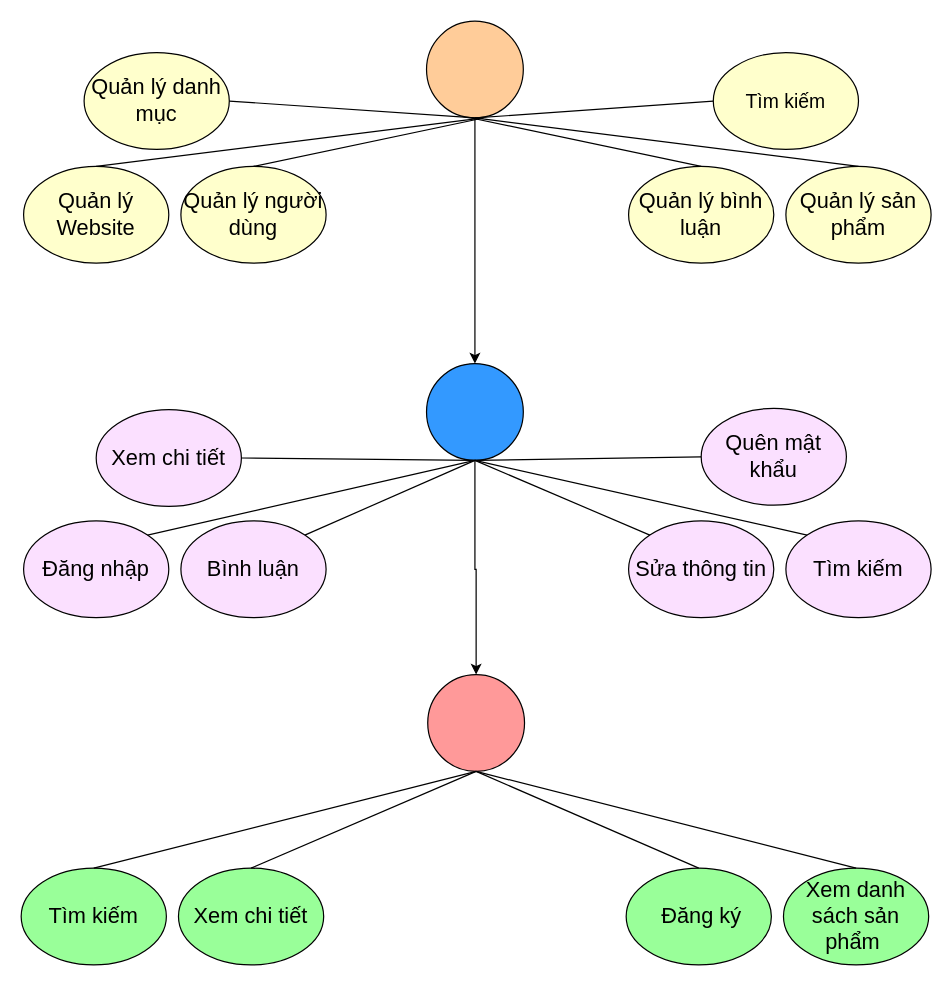
The diagram is 952 pixels wide and 986 high, and some of its shapes have lost their labels. Each missing label, with the box of its shape:
ADMIN: (425, 20, 523, 118)
USER: (425, 362, 523, 460)
VIEWR: (427, 673, 525, 771)
